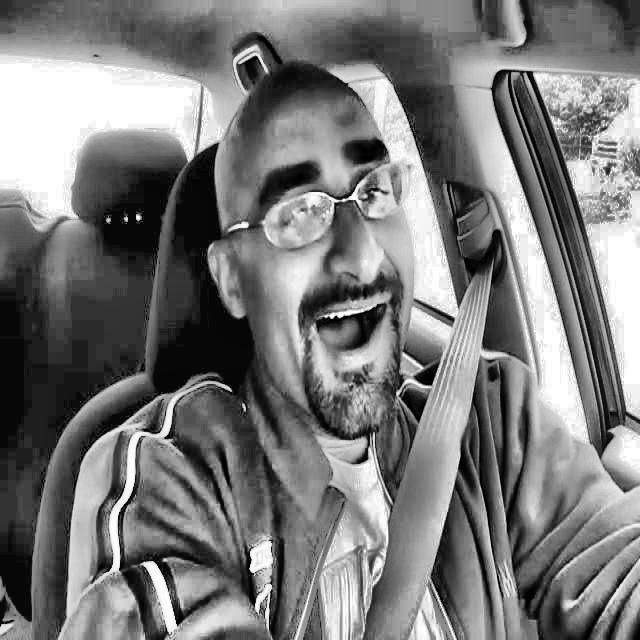open_mouth: (286, 282, 421, 375)
